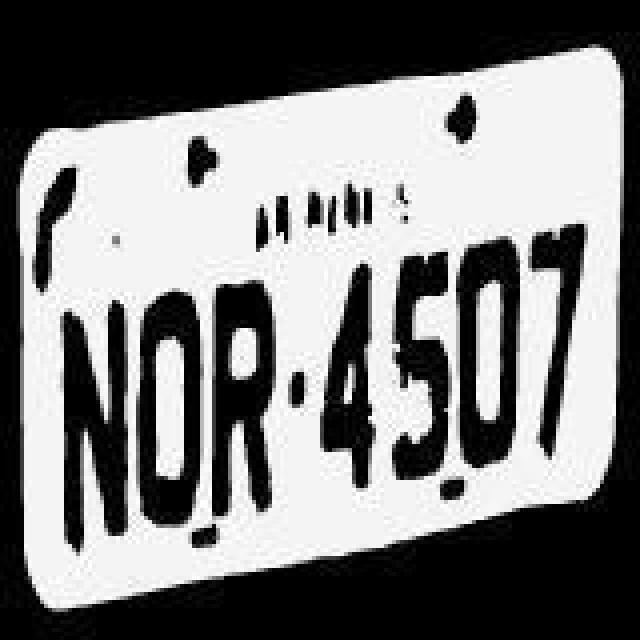4: (310, 240, 378, 520)
5: (378, 240, 454, 480)
7: (524, 184, 604, 472)
N: (58, 274, 134, 566)
O: (132, 268, 204, 532), (452, 216, 524, 472)
R: (206, 260, 290, 524)
